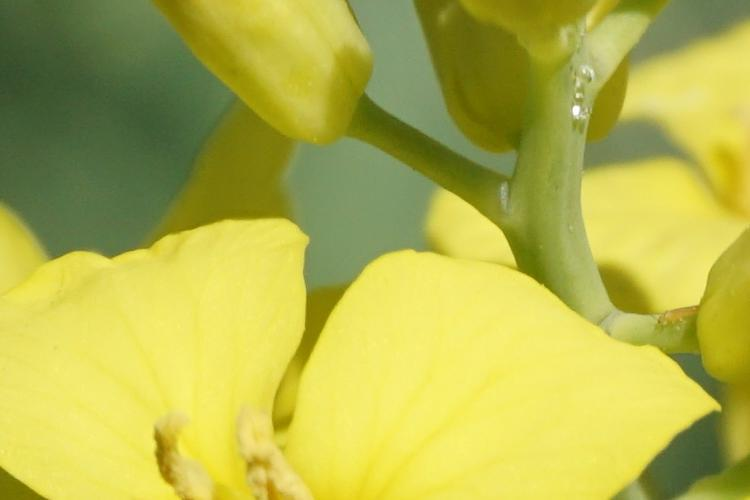yellow: (11, 216, 692, 500)
